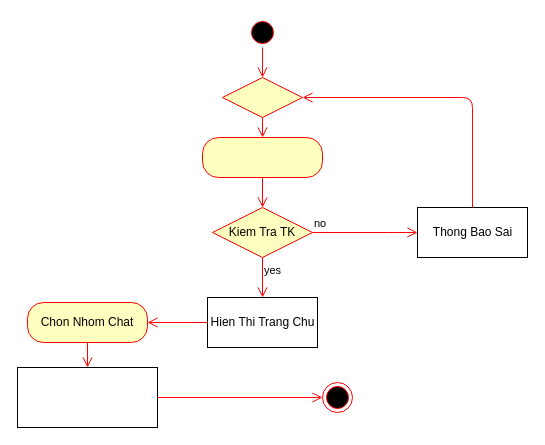
Some shapes in this 545 by 445 pixel diagram are drawn without their labels. Each missing label, with the centre of its shape:
"Dang Nhap" goes at (262,157).
"Hien Thi Noi Dung Chat" goes at (87,397).
